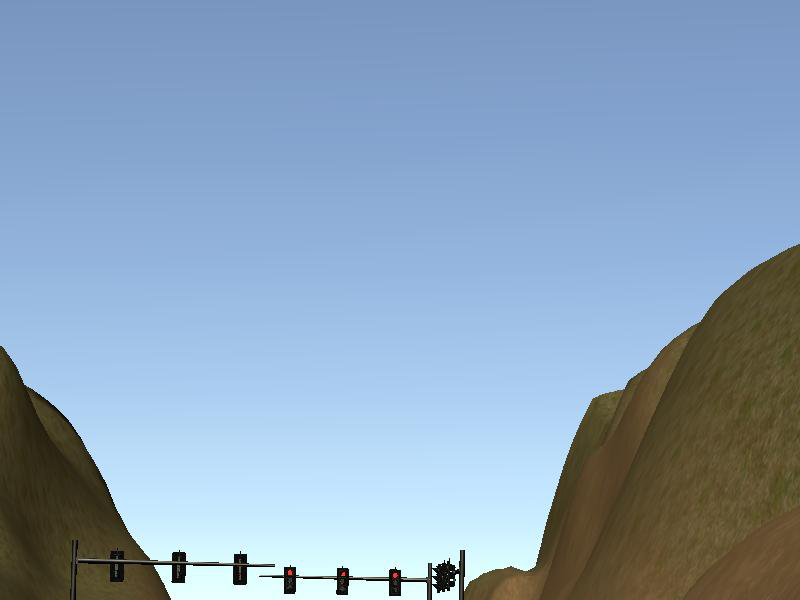red: (335, 566, 350, 595), (388, 568, 402, 595), (284, 566, 296, 595)
